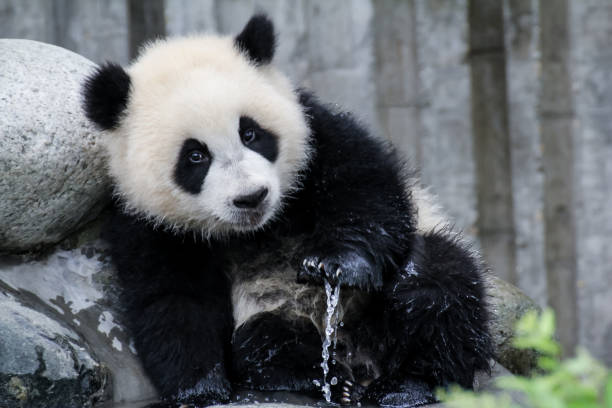panda: (40, 1, 339, 250)
